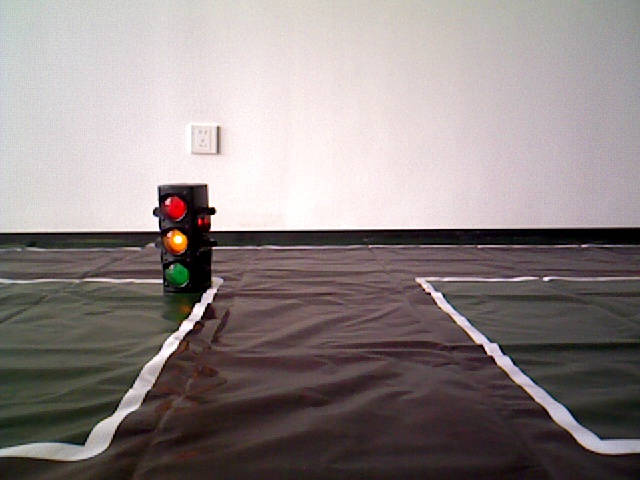yellow: (158, 178, 210, 299)
